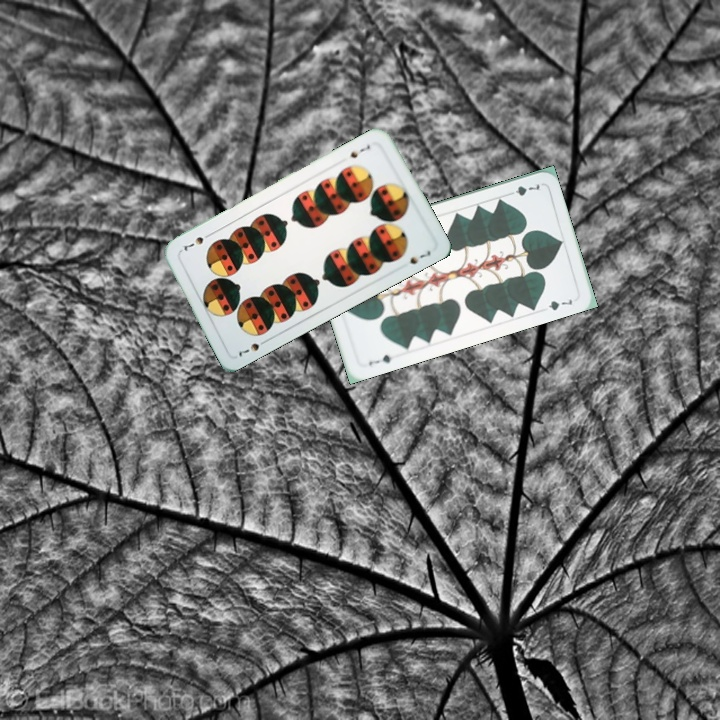G7: (504, 179, 542, 199), (365, 350, 399, 368)
S7: (234, 335, 270, 360), (346, 141, 373, 161)
